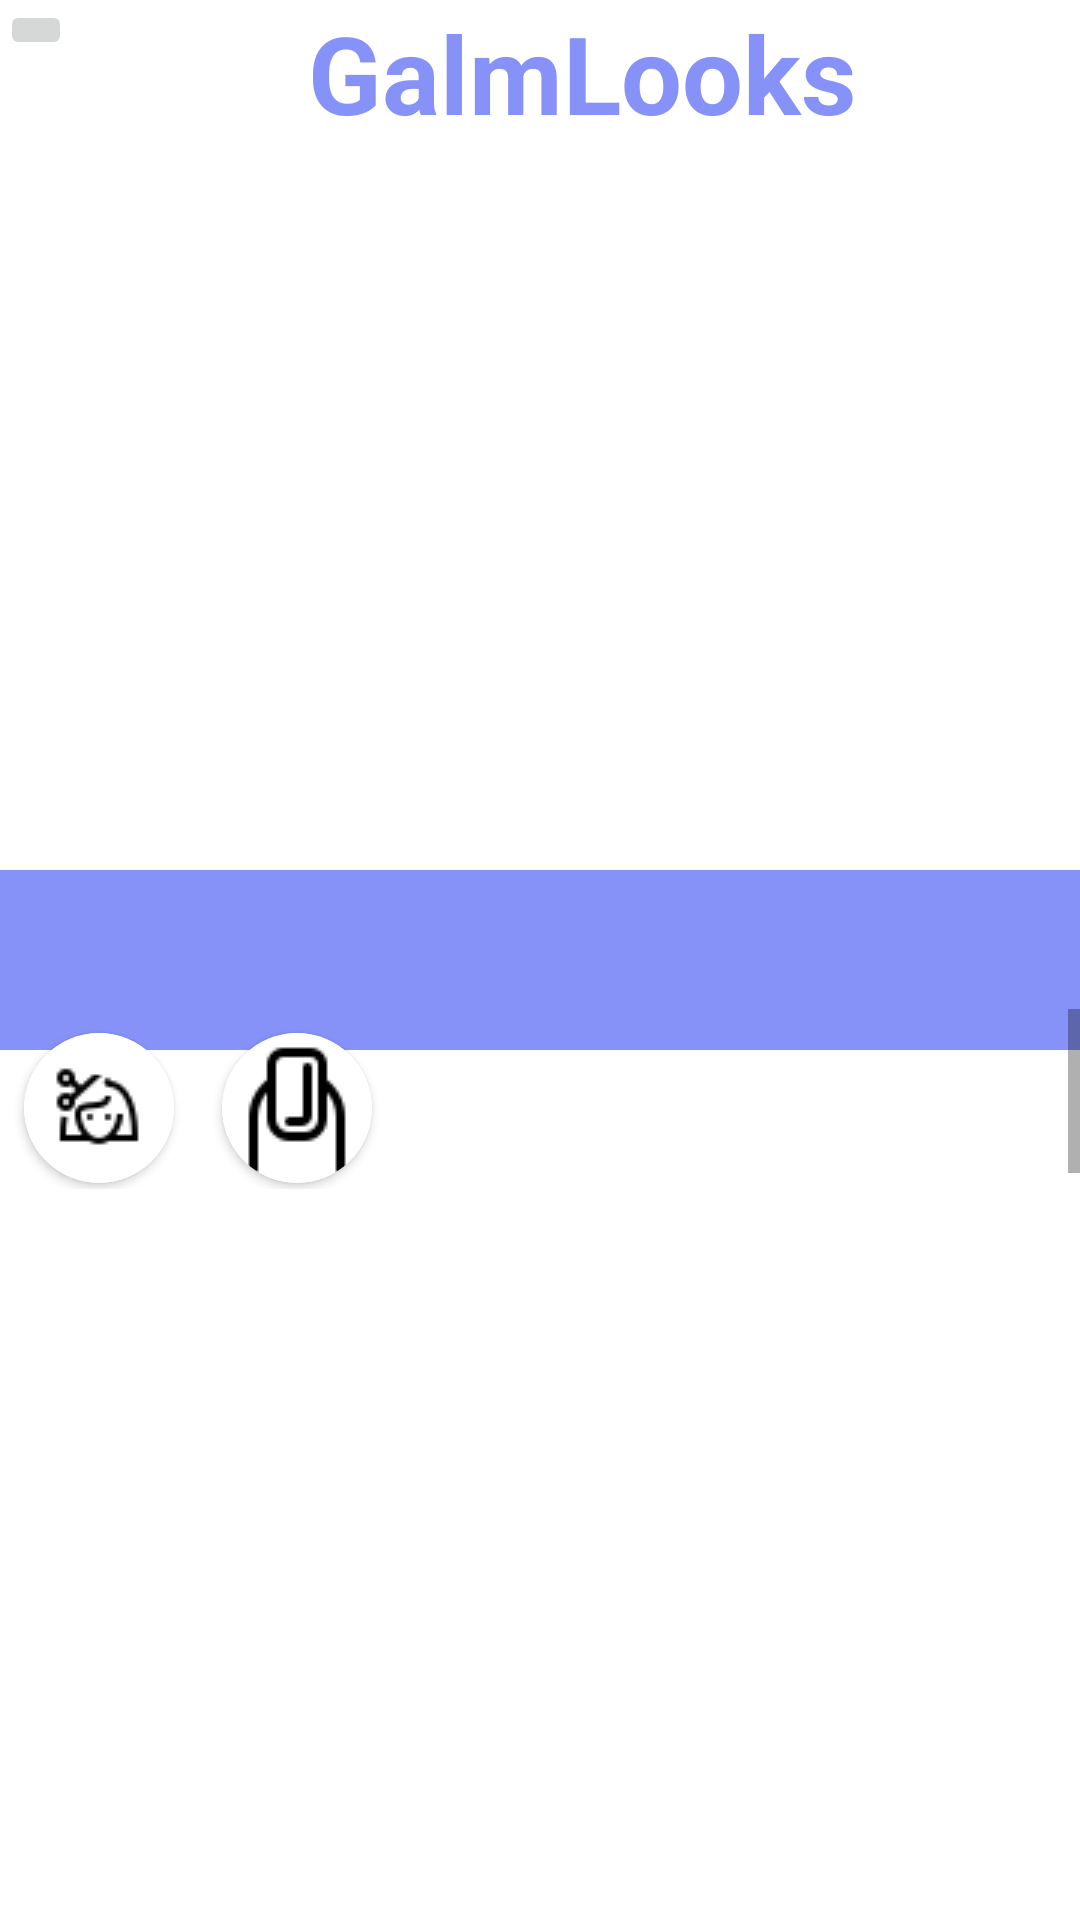

Named icons in this screenshot (1080*1920) and their centers, point (x, y):
haircut: point (94, 1125)
nails: point (293, 1115)
